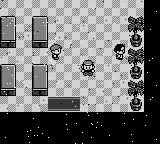main: (81, 61, 95, 75)
no-caminable: (1, 0, 160, 143), (128, 16, 144, 112), (1, 65, 15, 96), (33, 65, 47, 95), (33, 17, 47, 47), (1, 17, 15, 47)
npc: (114, 44, 126, 59), (50, 45, 62, 59)
puerta: (45, 96, 83, 111)
